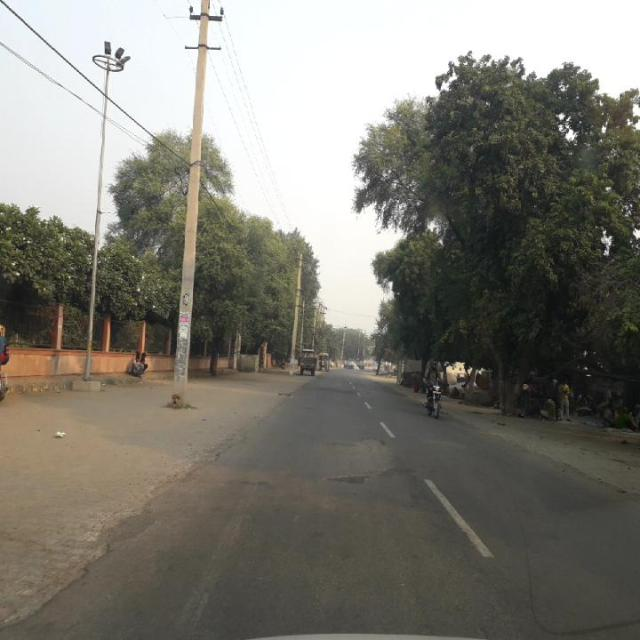D44: (143, 519, 243, 639)
